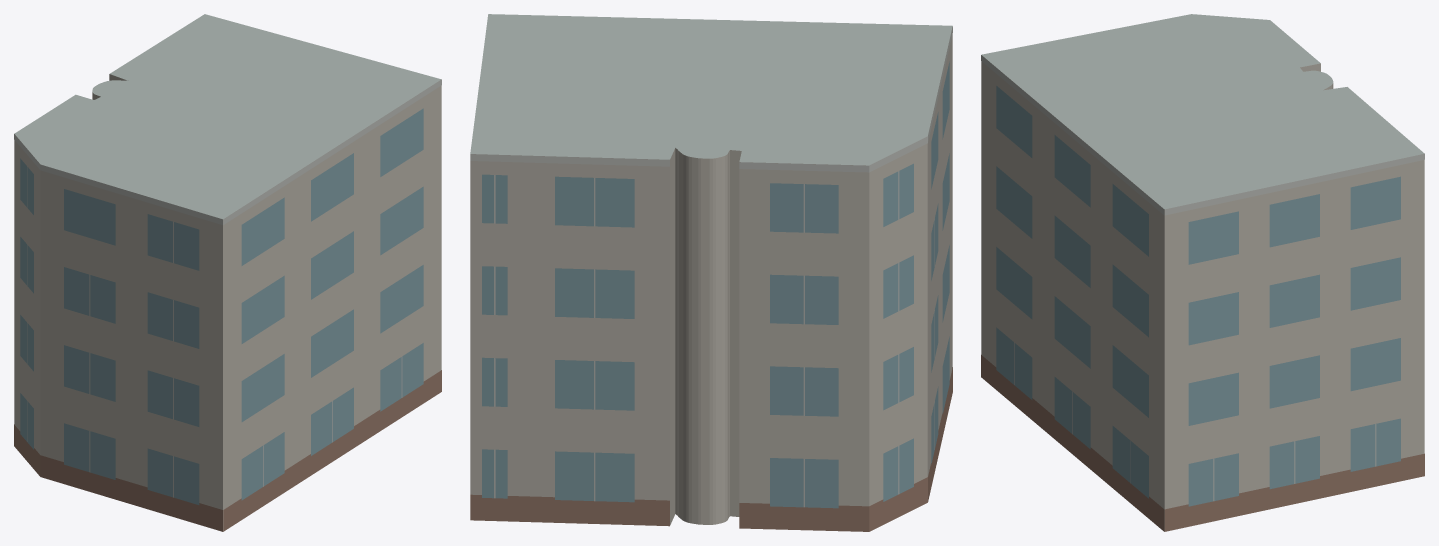
The model's file is survey-upis-32738583.glb.
The picture shows the model from 3 angles, left to right: view 1: azimuth 30°, elevation 25°; view 2: azimuth 150°, elevation 25°; view 3: azimuth 270°, elevation 25°; orthographic projection. The views are drawn at different scales.
Parts seen in each view (by area): view 1: survey-upis-32738583.tmp; view 2: survey-upis-32738583.tmp; view 3: survey-upis-32738583.tmp.
Boxes of the visible parts, x1=… form: survey-upis-32738583.tmp: x1=14, y1=14, x2=441, y2=531; survey-upis-32738583.tmp: x1=470, y1=14, x2=952, y2=531; survey-upis-32738583.tmp: x1=981, y1=14, x2=1424, y2=531.
Size of the model in its own units: 16.65 by 12.8 by 15.97.
